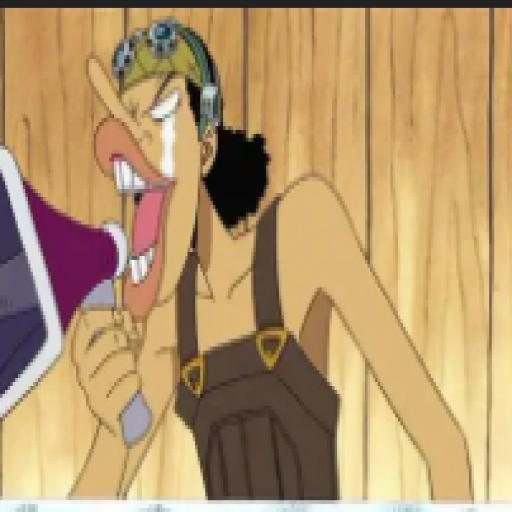Usopp: (52, 16, 478, 502)
